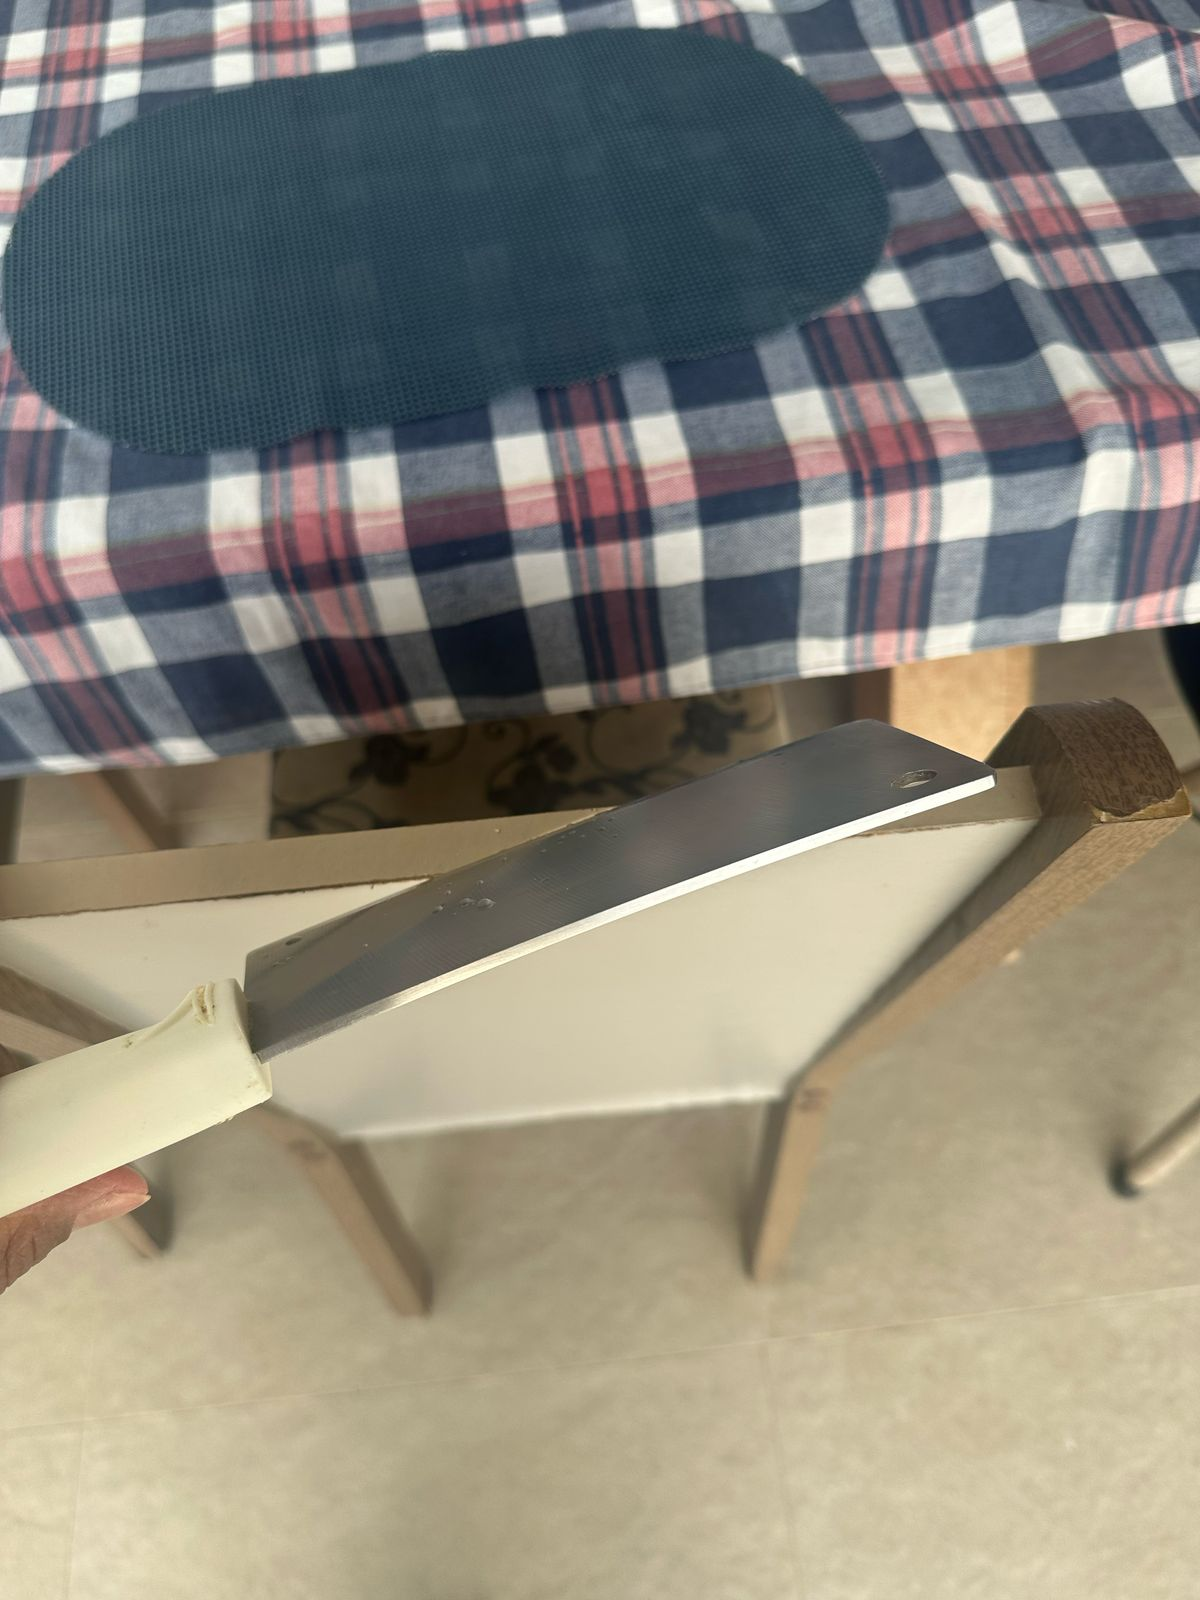faca: (48, 651, 1006, 1168)
